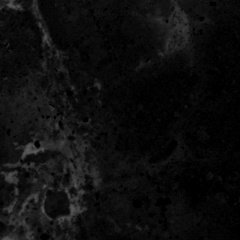Vegetation: (63, 132, 90, 183), (166, 12, 190, 49), (19, 143, 42, 157), (4, 173, 20, 184)
